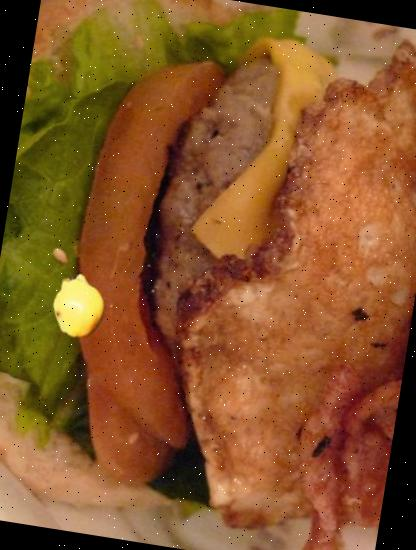Quince: (43, 270, 116, 343)
